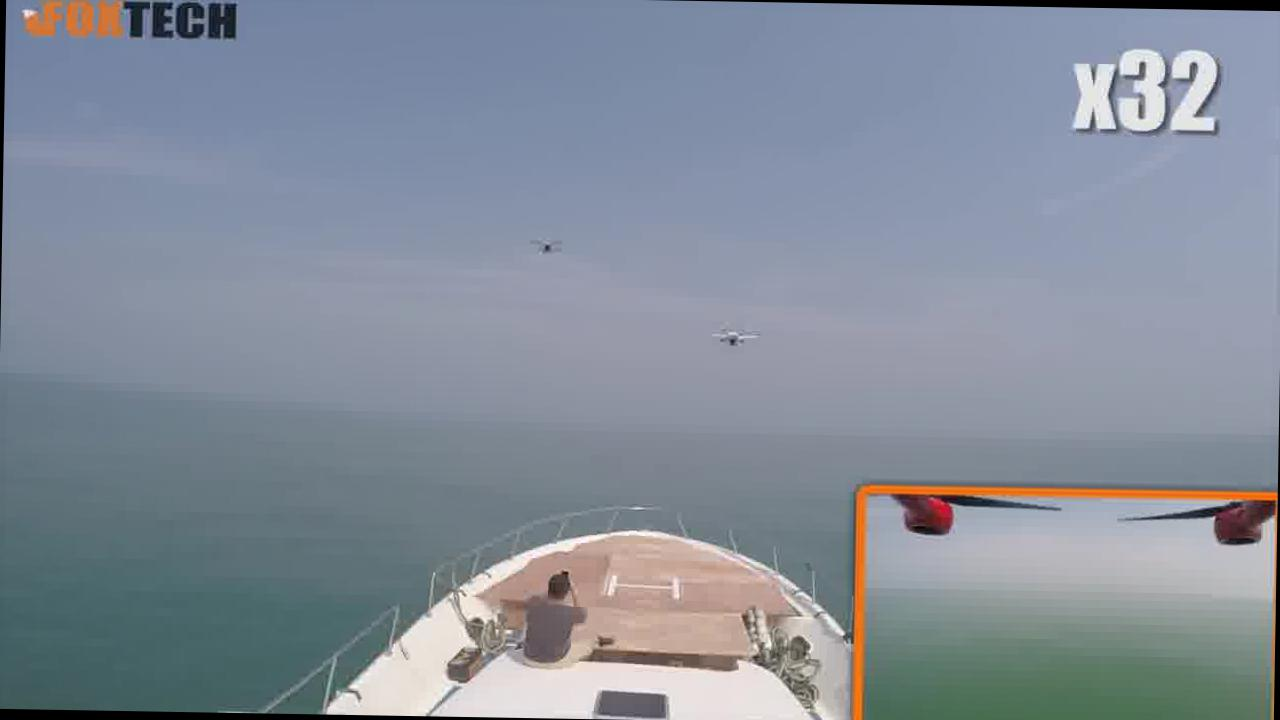drone: (698, 316, 770, 356), (514, 229, 576, 263)
